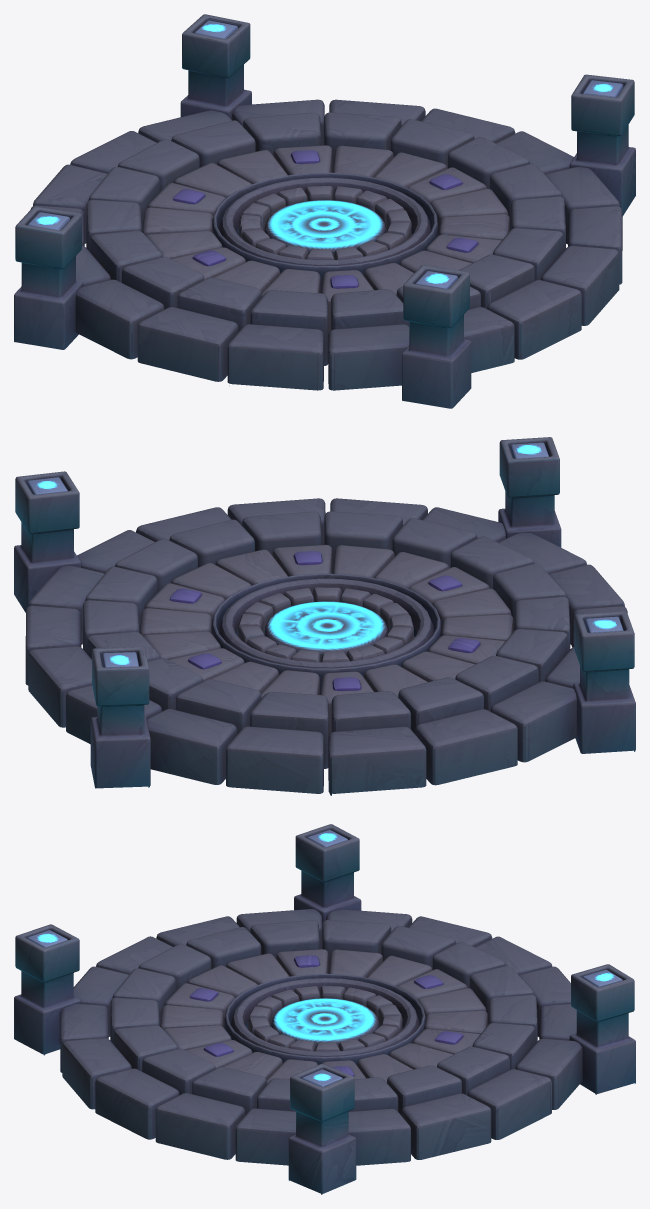
File: CheckPoint.fbx
The picture shows the model from 3 angles, top to bottom: view 1: azimuth 30°, elevation 25°; view 2: azimuth 150°, elevation 25°; view 3: azimuth 270°, elevation 25°; orthographic projection. The views are drawn at different scales.
Visible parts, largest first — view 1: Cube.004, Cube.005, Cube.006, Cube.011, Cube.010, Cube.008, Cube.009, Cube.007, Circle.002, Circle, Circle.001, Cube.014; view 2: Cube.004, Cube.005, Cube.006, Cube.010, Cube.009, Cube.008, Cube.007, Cube.011, Circle.002, Circle, Circle.001, Cube.014; view 3: Cube.004, Cube.005, Cube.006, Cube.008, Cube.009, Cube.011, Cube.010, Cube.007, Circle.002, Circle, Circle.001, Cube.014.
Boxes of the visible parts, x1,y1,x2,y2 form: Cube.004: (30,99,622,390); Cube.005: (86,112,565,365); Cube.006: (142,145,509,334); Cube.011: (402,265,471,408); Cube.010: (14,206,83,349); Cube.008: (569,74,635,216); Cube.009: (180,14,251,119); Cube.007: (238,186,411,259); Circle.002: (264,200,385,256); Circle: (219,177,430,265); Circle.001: (212,172,438,293); Cube.014: (173,150,478,288); Cube.004: (25,498,627,795); Cube.005: (83,511,570,768); Cube.006: (140,544,513,736); Cube.010: (573,611,635,753); Cube.009: (90,646,150,788); Cube.008: (14,471,81,612); Cube.007: (238,587,413,662); Cube.011: (498,437,561,547); Circle.002: (264,601,387,661); Circle: (219,578,434,668); Circle.001: (211,573,441,694); Cube.014: (170,551,480,690); Cube.004: (60,909,582,1165); Cube.005: (110,920,537,1115); Cube.006: (160,949,487,1083); Cube.008: (288,1063,356,1194); Cube.009: (569,964,635,1094); Cube.011: (14,924,81,1055); Cube.010: (294,824,361,923); Cube.007: (248,985,402,1051); Circle.002: (271,998,379,1048); Circle: (230,978,419,1056); Circle.001: (224,973,425,1065); Cube.014: (190,955,463,1076).
Bounding box in the file's own units: 1082 × 197 × 1061.
1 material, 1 textured.
